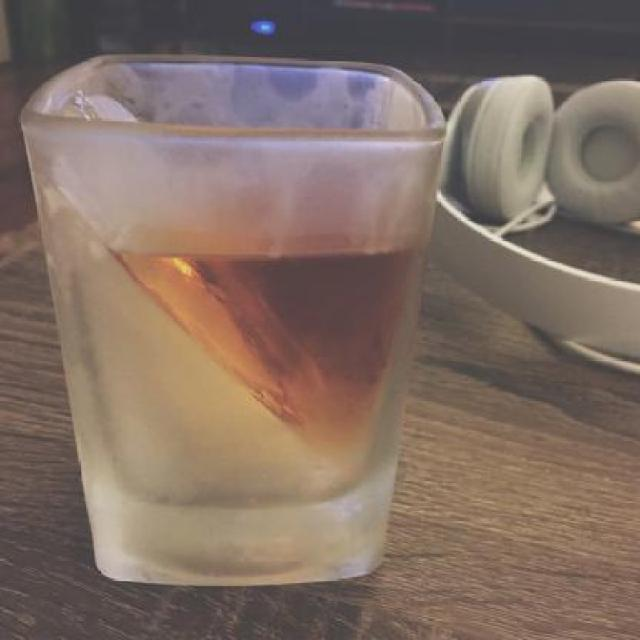earphone: (446, 55, 640, 395)
